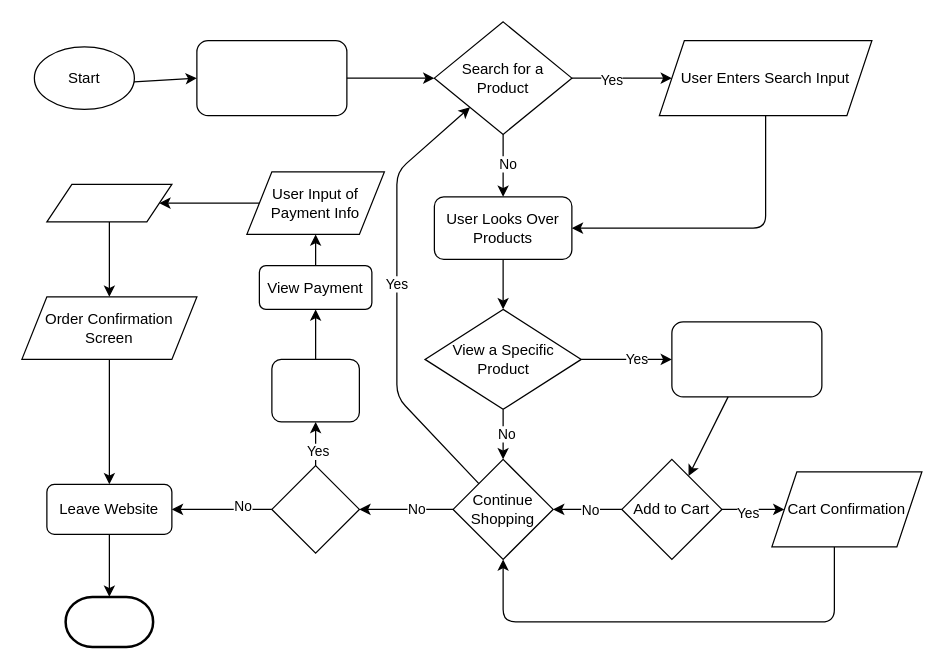
This 944x670 diagram has some shape labels left out. Each missing label, with the centre of its shape:
"Checkout" goes at (x=315, y=508).
"End" goes at (x=109, y=621).
"Product's webpage opens" goes at (x=746, y=359).
"Send Email" goes at (x=109, y=202).
"User Enters Website" goes at (x=271, y=77).
"View Cart Screen" goes at (x=315, y=390).
